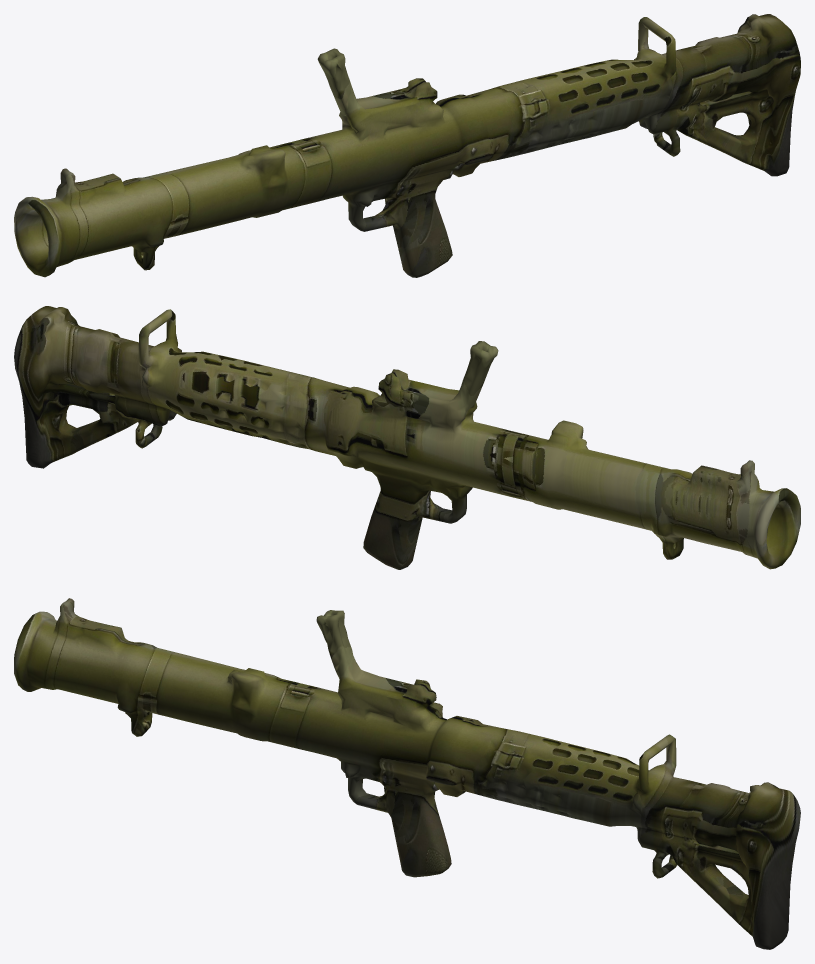
The model's file is grenade_launcher.glb.
The picture shows the model from 3 angles, top to bottom: view 1: azimuth 30°, elevation 25°; view 2: azimuth 150°, elevation 25°; view 3: azimuth 330°, elevation 25°; orthographic projection.
Parts seen in each view (by area): view 1: geometry_0; view 2: geometry_0; view 3: geometry_0.
Boxes of the visible parts, x1,y1,x2,y2 form: geometry_0: (14, 14, 800, 277); geometry_0: (14, 306, 800, 569); geometry_0: (14, 598, 800, 949).
Bounding box in the file's own units: 1.99 × 0.612 × 0.1998.
1 material, 1 textured.
